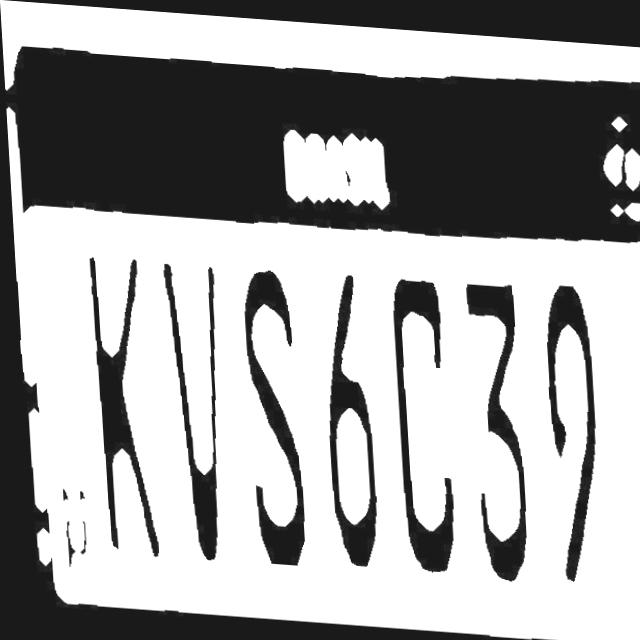3: (458, 261, 543, 591)
6: (311, 238, 385, 556)
9: (527, 261, 610, 601)
c: (371, 248, 466, 572)
k: (70, 233, 163, 552)
s: (227, 242, 316, 566)
v: (159, 258, 240, 566)
